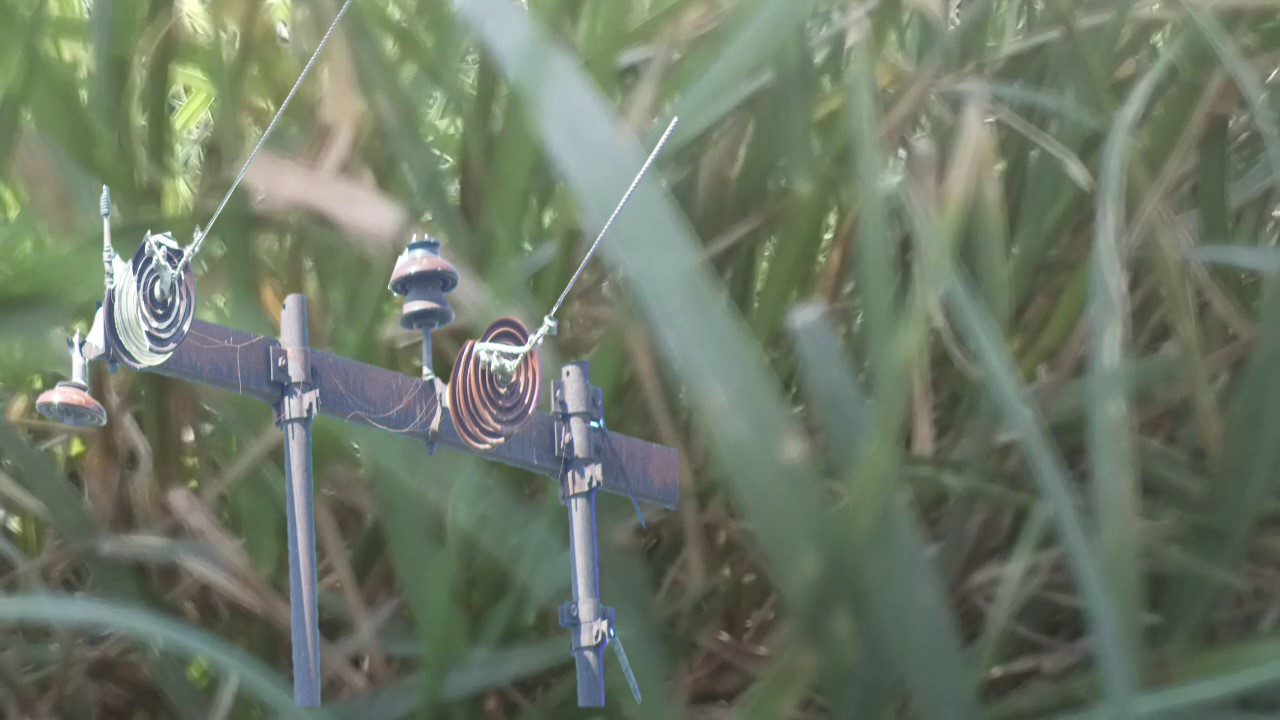defect_disc: (128, 231, 200, 365)
insulator_disc: (465, 317, 542, 439), (32, 373, 113, 434)
